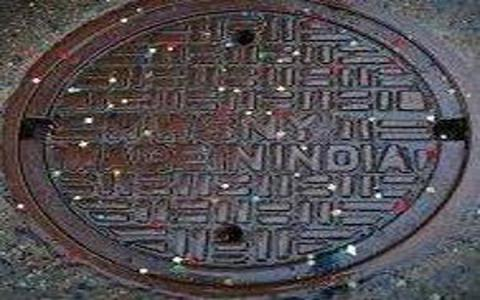proper manhole: (1, 5, 474, 295)
